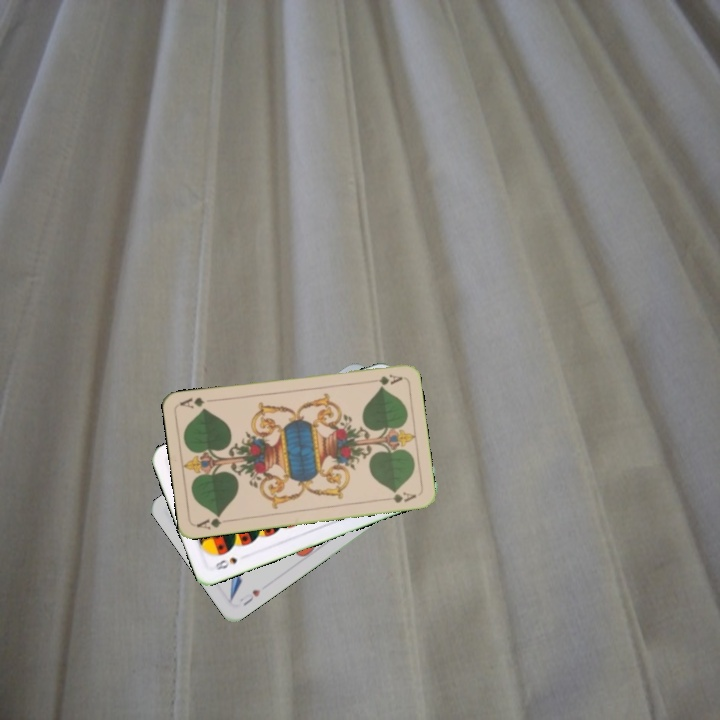GA: (193, 511, 233, 532), (364, 370, 405, 387)
HU: (236, 585, 263, 609)
S8: (211, 553, 240, 573)
